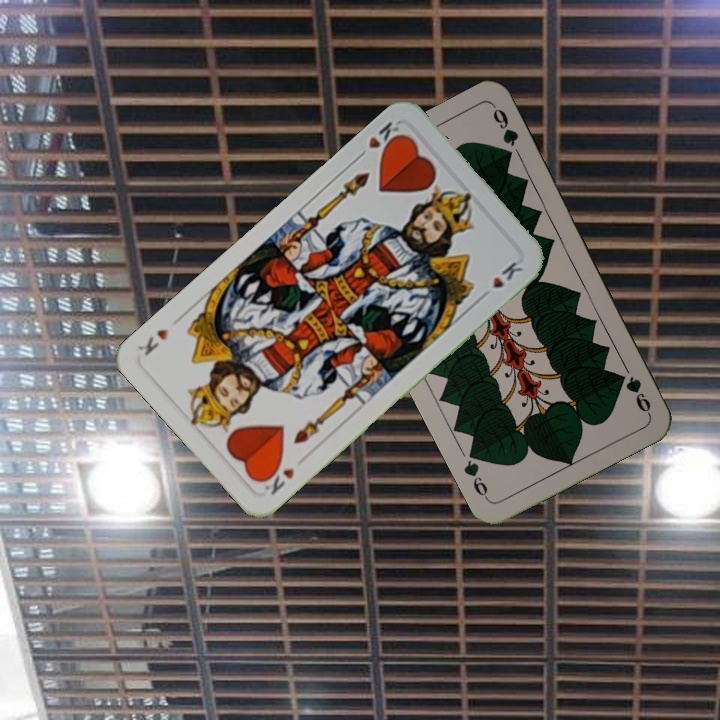G9: (619, 362, 654, 417)
HK: (352, 117, 406, 162), (255, 459, 298, 498)
